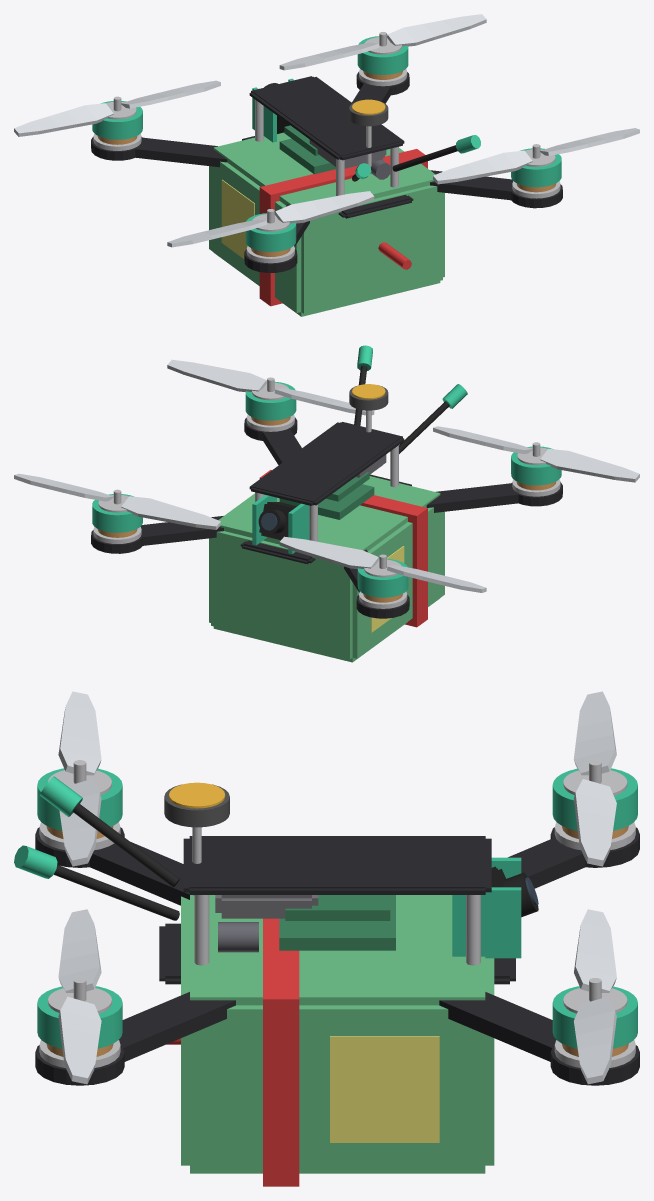
Rendered from longrange5.glb.
3 renders of one model, top to bottom at view 1: azimuth 30°, elevation 25°; view 2: azimuth 150°, elevation 25°; view 3: azimuth 270°, elevation 25°, orthographic. The views are drawn at different scales.
Visible parts, largest first — view 1: body, prop_RR, prop_FR, prop_RL, prop_FL, cam_mount; view 2: body, prop_RL, prop_FR, prop_FL, prop_RR, cam_mount, fpv_cam; view 3: body, prop_FL, prop_RR, prop_FR, prop_RL, cam_mount, fpv_cam.
Boxes of the visible parts, left/top/right/bottom form: body: left=91, top=32, right=562, bottom=316; prop_RR: left=433, top=128, right=639, bottom=184; prop_FR: left=279, top=14, right=486, bottom=70; prop_RL: left=167, top=191, right=374, bottom=247; prop_FL: left=14, top=80, right=220, bottom=136; cam_mount: left=252, top=78, right=293, bottom=142; body: left=91, top=345, right=562, bottom=662; prop_RL: left=433, top=426, right=639, bottom=482; prop_FR: left=14, top=473, right=220, bottom=529; prop_FL: left=279, top=536, right=486, bottom=592; prop_RR: left=167, top=359, right=374, bottom=415; cam_mount: left=252, top=495, right=309, bottom=553; fpv_cam: left=258, top=502, right=296, bottom=540; body: left=14, top=760, right=639, bottom=1186; prop_FL: left=573, top=691, right=616, bottom=866; prop_RR: left=58, top=909, right=101, bottom=1084; prop_FR: left=574, top=909, right=616, bottom=1084; prop_RL: left=58, top=691, right=101, bottom=866; cam_mount: left=452, top=857, right=521, bottom=958; fpv_cam: left=491, top=866, right=538, bottom=917.
Size of the model in its own units: 0.2995 by 0.1192 by 0.2065.
